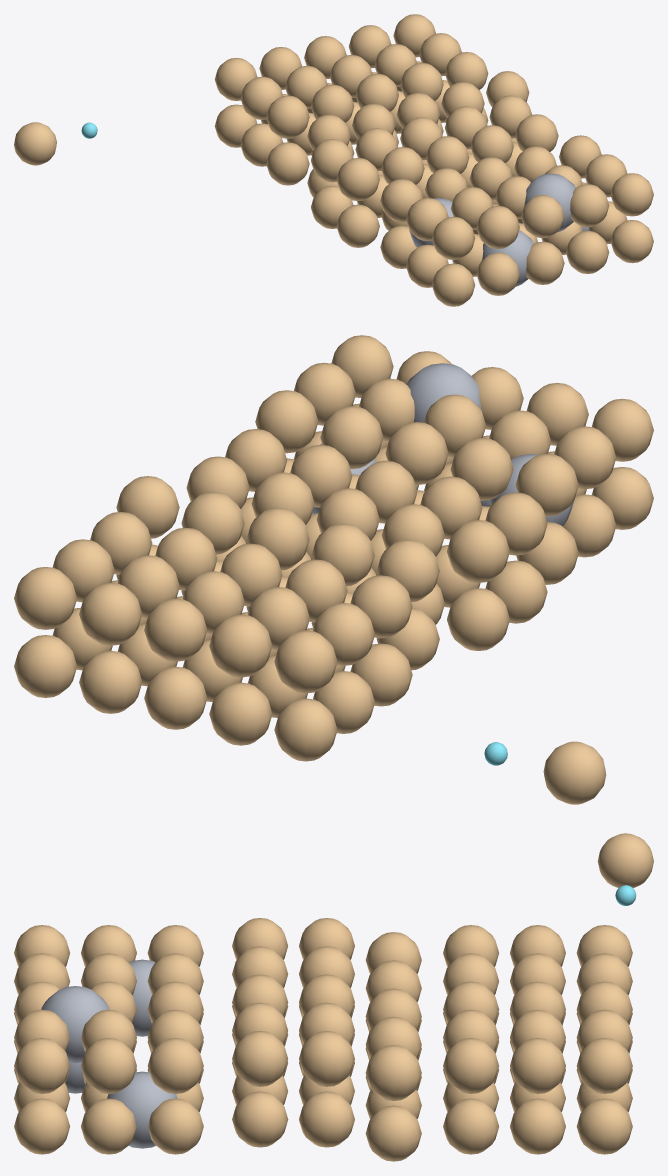
Rendered from metal_kit.glb.
3 renders of one model, top to bottom at view 1: azimuth 30°, elevation 25°; view 2: azimuth 150°, elevation 25°; view 3: azimuth 270°, elevation 25°, orthographic. The views are drawn at different scales.
Visible parts, largest first — view 1: lattice_alloy, lattice_metal, lattice_slipped, metal_cation; view 2: lattice_metal, lattice_slipped, lattice_alloy, metal_cation; view 3: lattice_alloy, lattice_slipped, lattice_metal, metal_cation.
Part boxes in pixels (left/top/right/bottom): lattice_alloy: left=380, top=135, right=653, bottom=306; lattice_metal: left=214, top=14, right=488, bottom=185; lattice_slipped: left=307, top=71, right=558, bottom=247; metal_cation: left=14, top=122, right=56, bottom=165; lattice_metal: left=14, top=512, right=412, bottom=761; lattice_slipped: left=116, top=429, right=547, bottom=670; lattice_alloy: left=255, top=335, right=653, bottom=584; metal_cation: left=543, top=741, right=606, bottom=804; lattice_alloy: left=14, top=925, right=203, bottom=1154; lattice_slipped: left=232, top=918, right=421, bottom=1161; lattice_metal: left=443, top=925, right=632, bottom=1154; metal_cation: left=597, top=833, right=653, bottom=888.
Size of the model in its own units: 1.79 by 0.4 by 1.82.
